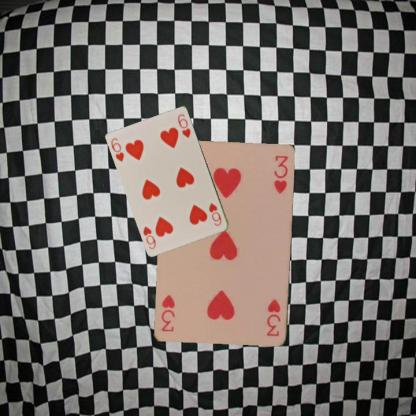3h: (264, 296, 283, 338)
6h: (108, 135, 126, 163), (206, 201, 223, 227)
